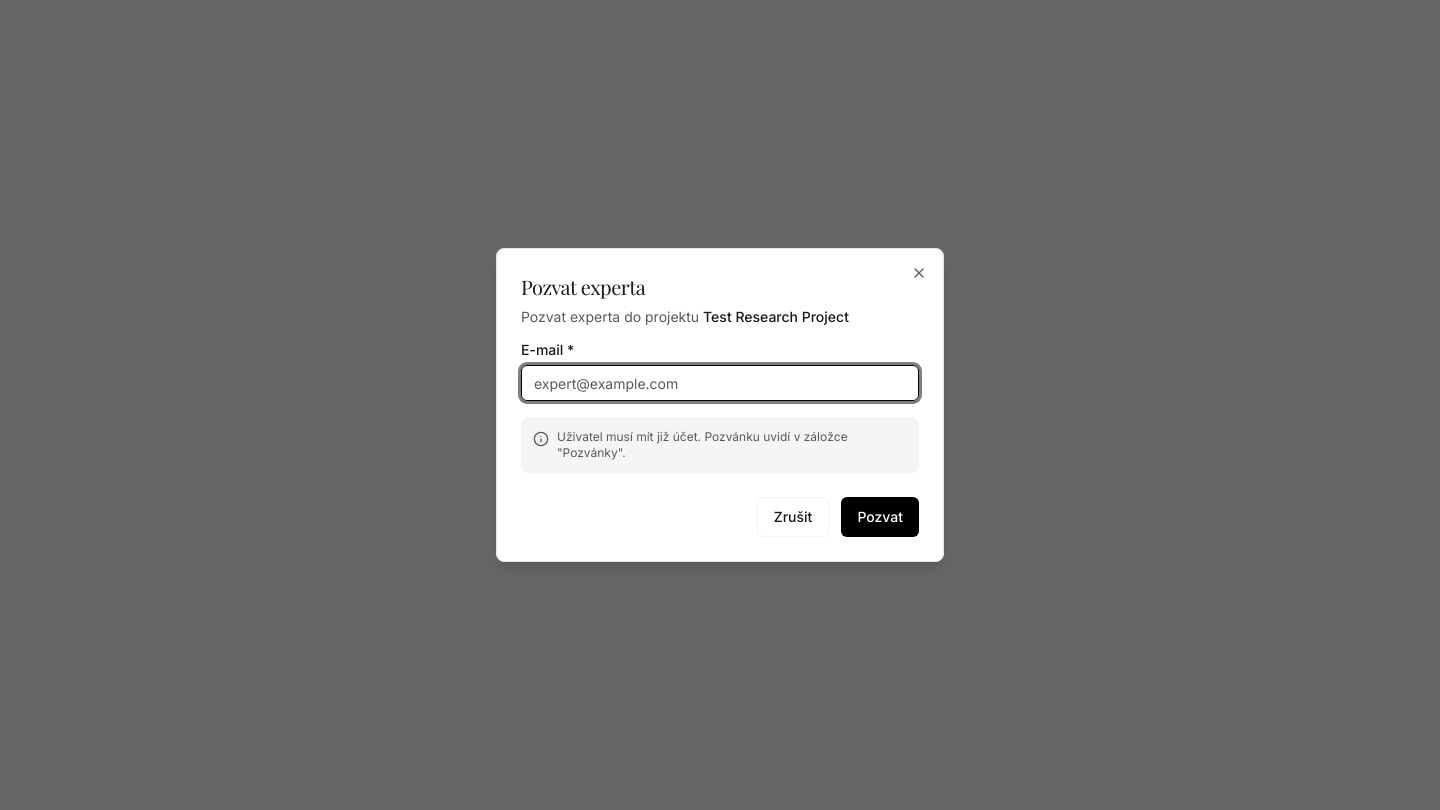
Test: InviteExpertModal › states in Czech that no email is sent and where the invitation appears
Type "expert@test.com" into the field with placeholder "expert@example.com".
click(720, 383); type("expert@test.com")  # box [521,365,919,401]
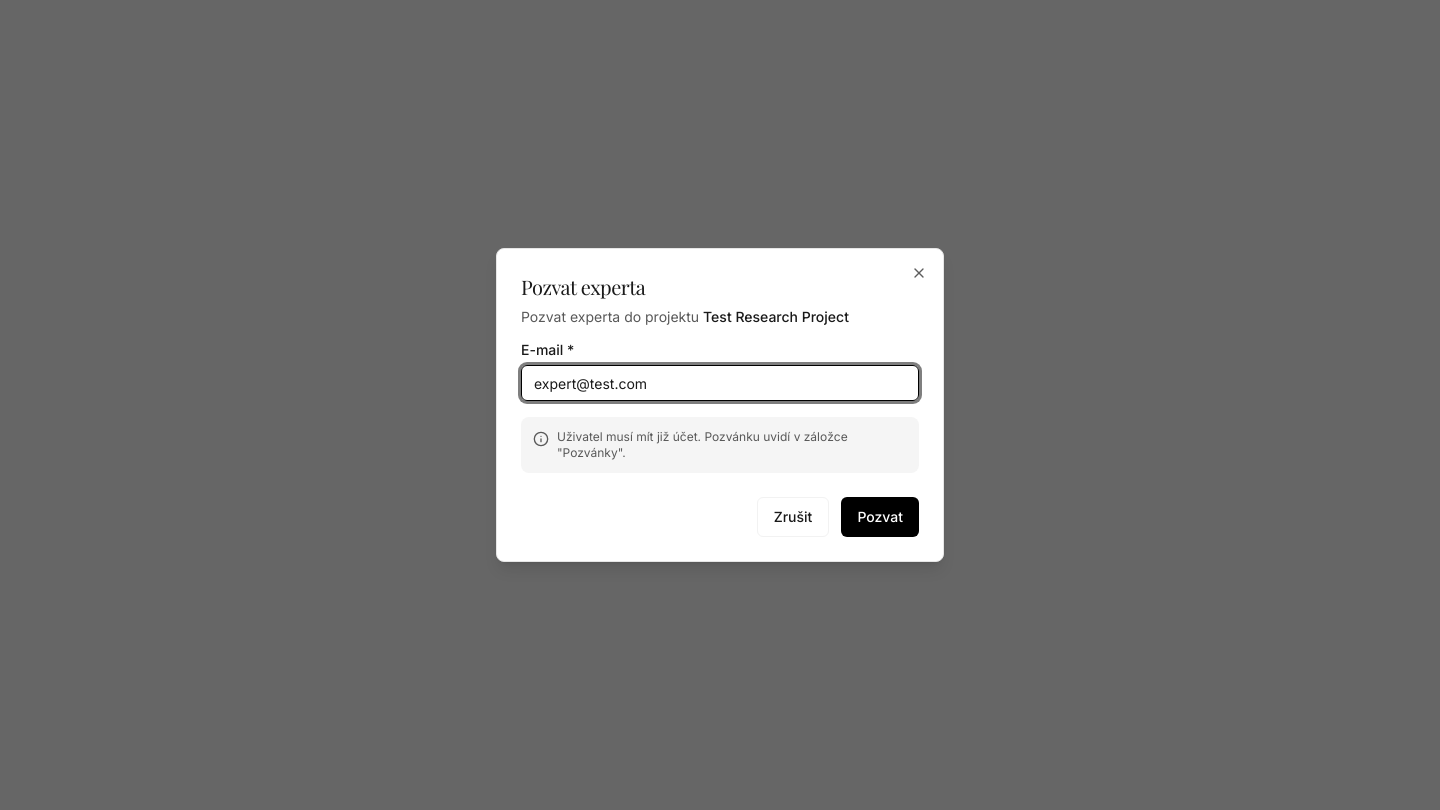
Click the button "Pozvat".
click(880, 517)  # box [841,497,919,537]
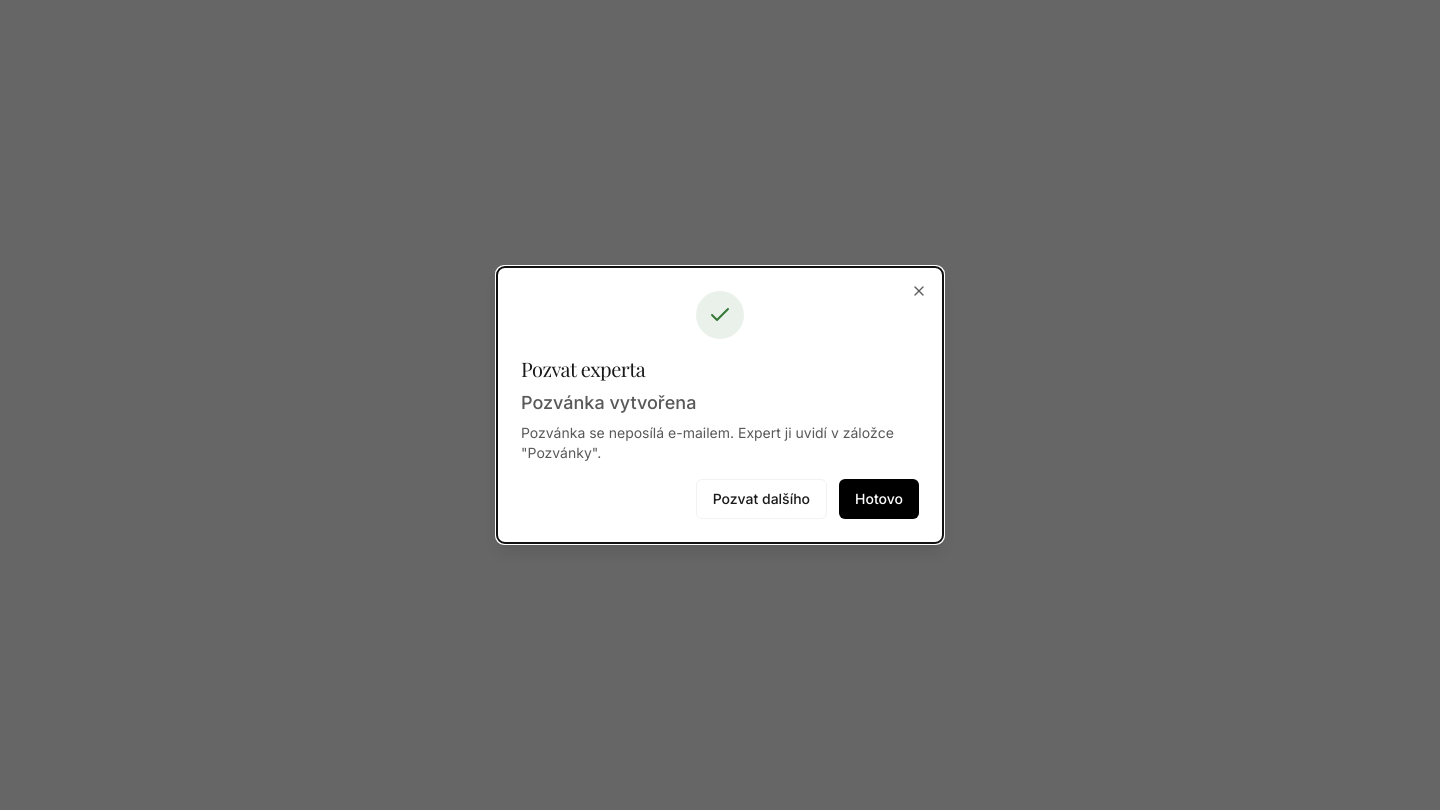
Check: the text "Pozvánka vytvořena" is shown, box [521,392,696,413]
Check: the text "Pozvánka se neposílá e-mailem. Expert ji uvidí v záložce \"Pozvánky\"." is shown, box [521,423,919,463]
